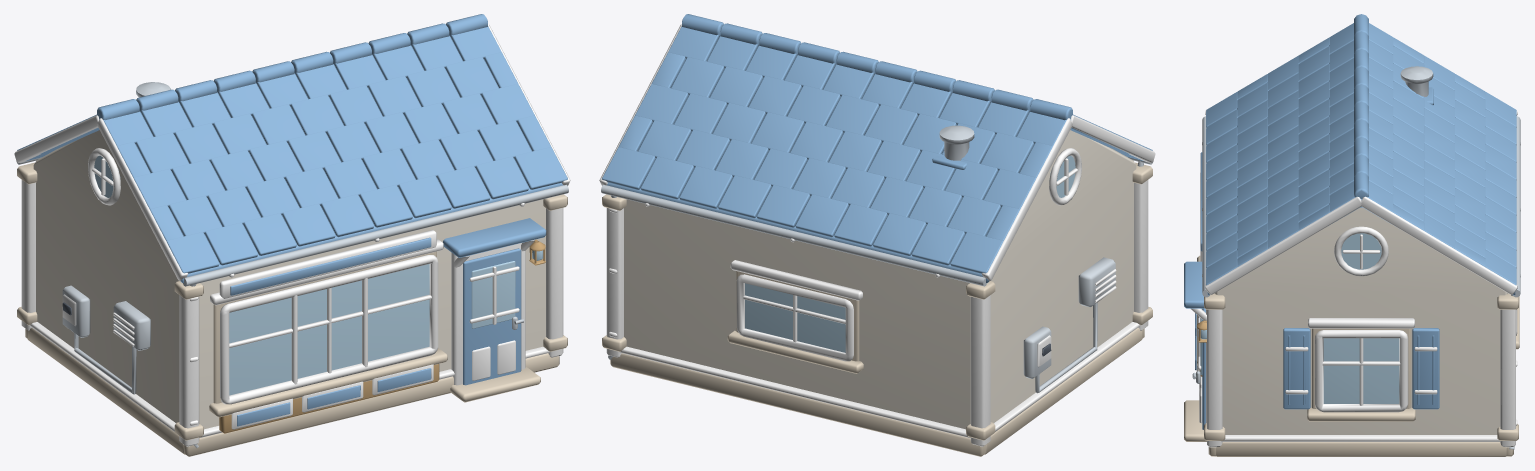
File: fine_workshop.glb
3 renders of one model, left to right at view 1: azimuth 30°, elevation 25°; view 2: azimuth 150°, elevation 25°; view 3: azimuth 270°, elevation 25°, orthographic. The views are drawn at different scales.
Parts seen in each view (by area): view 1: fine_workshop_structure; view 2: fine_workshop_structure; view 3: fine_workshop_structure.
Boxes of the visible parts, x1,y1,x2,y2 form: fine_workshop_structure: (14, 14, 570, 456); fine_workshop_structure: (599, 14, 1155, 456); fine_workshop_structure: (1184, 14, 1520, 456).
Bounding box in the file's own units: 6.56 × 4.6 × 5.16.
